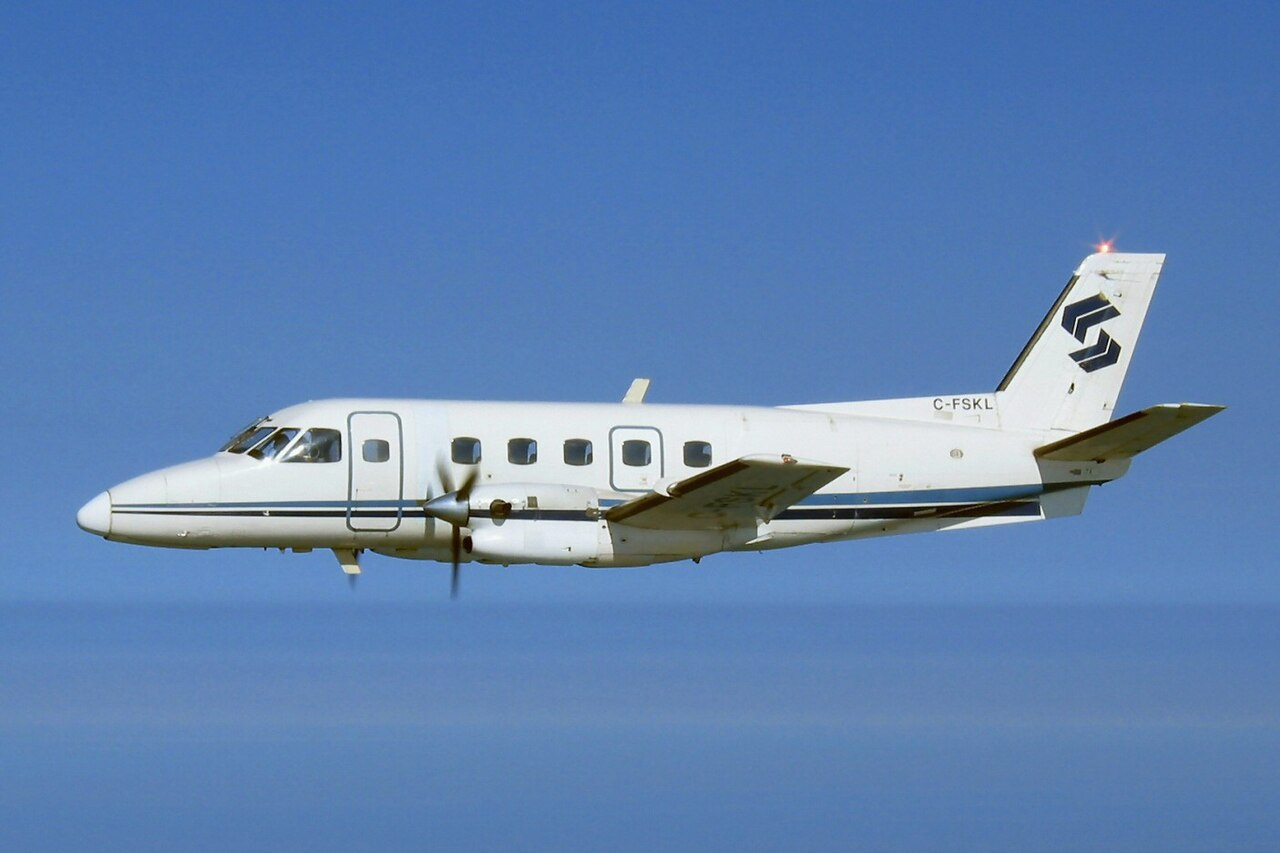aircraft: (74, 243, 1226, 595)
